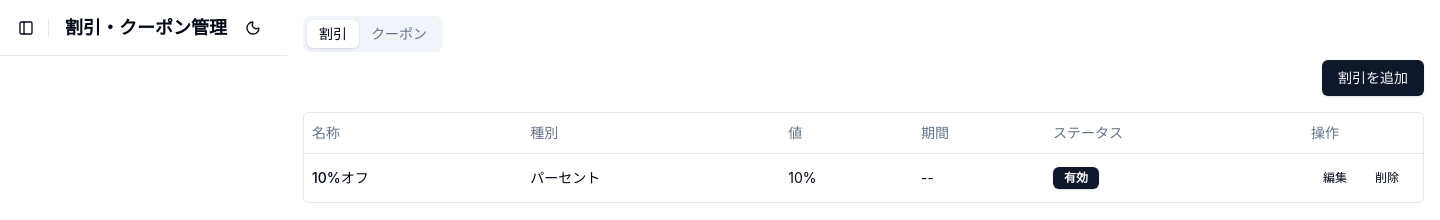
Scenario: DiscountsPage › クーポンの期間を表示する
Step 1. Click the tab "クーポン" → (399, 34), box [359,20,439,48]
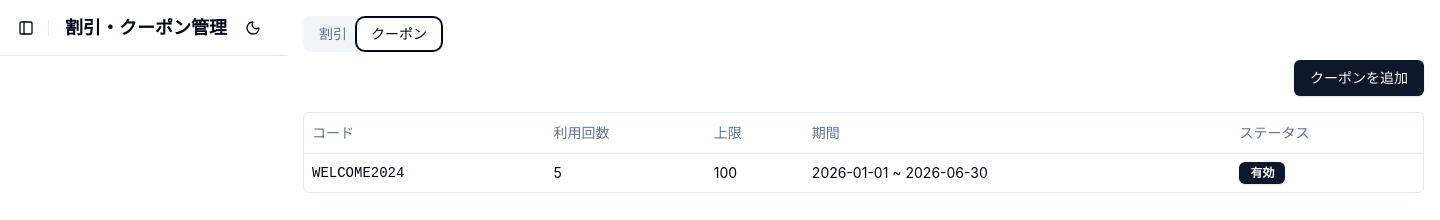
Expected: the text "2026-01-01 ~ 2026-06-30" is shown, [804,153,1231,192]
